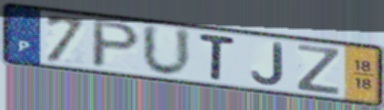7: (44, 13, 88, 66)
J: (250, 41, 286, 87)
P: (89, 19, 144, 70)
T: (197, 31, 238, 83)
U: (140, 22, 195, 79)
Z: (295, 42, 343, 97)
